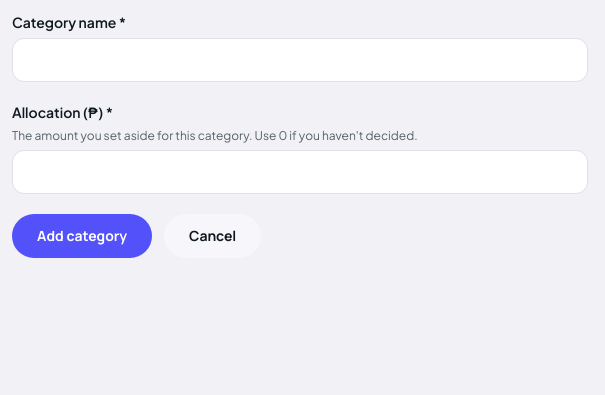
CategoryForm › says nothing was saved when the request fails, with no field errors
Click the button "Add category".
click(82, 236)  # box [12,214,152,258]
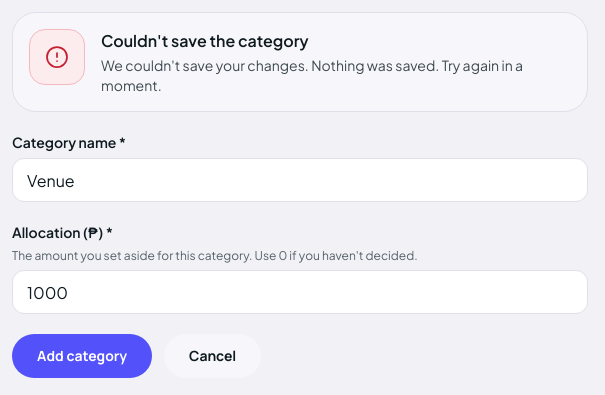
Result: the message shows "Nothing was saved" at [101,56,523,94]
Result: the field labelled "Category name *" holds "Venue" at [12,158,588,202]
